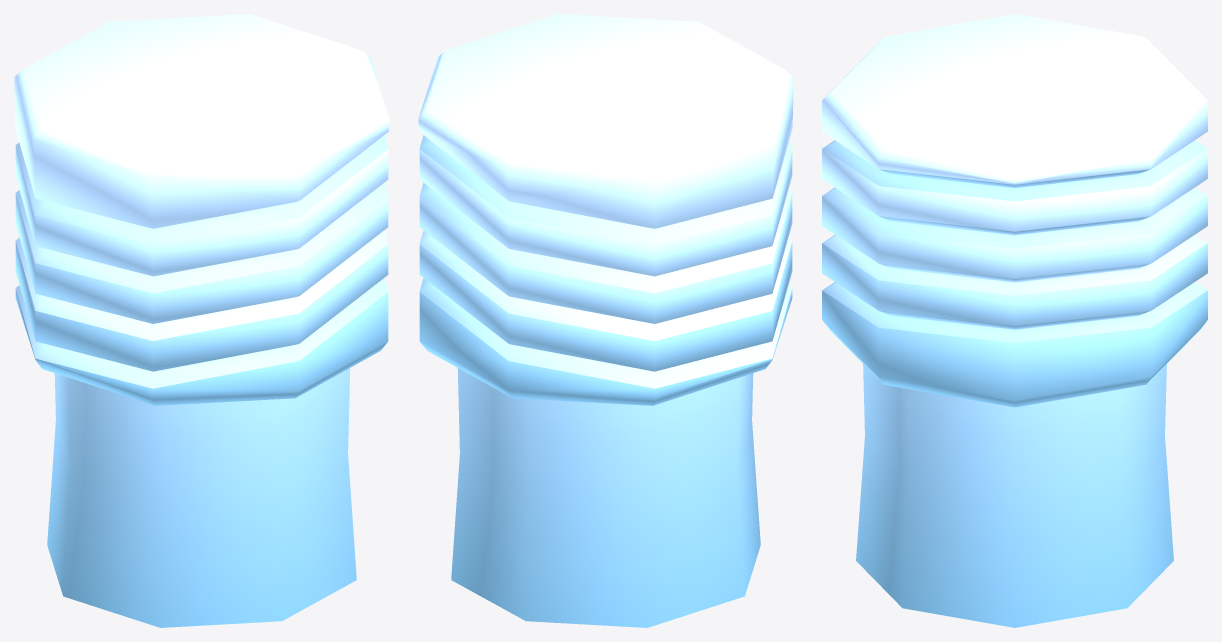
File: steel_grip_028.glb
3 views of the same model, side by side, from view 1: azimuth 30°, elevation 25°; view 2: azimuth 150°, elevation 25°; view 3: azimuth 270°, elevation 25° (orthographic).
Visible parts, largest first — view 1: steel_grip_028; view 2: steel_grip_028; view 3: steel_grip_028.
Boxes of the visible parts, x1,y1,x2,y2 form: steel_grip_028: (14,14,389,627); steel_grip_028: (418,14,793,627); steel_grip_028: (822,14,1207,627).
Bounding box in the file's own units: 2.24 × 3 × 2.24.
1 material, 1 textured.
